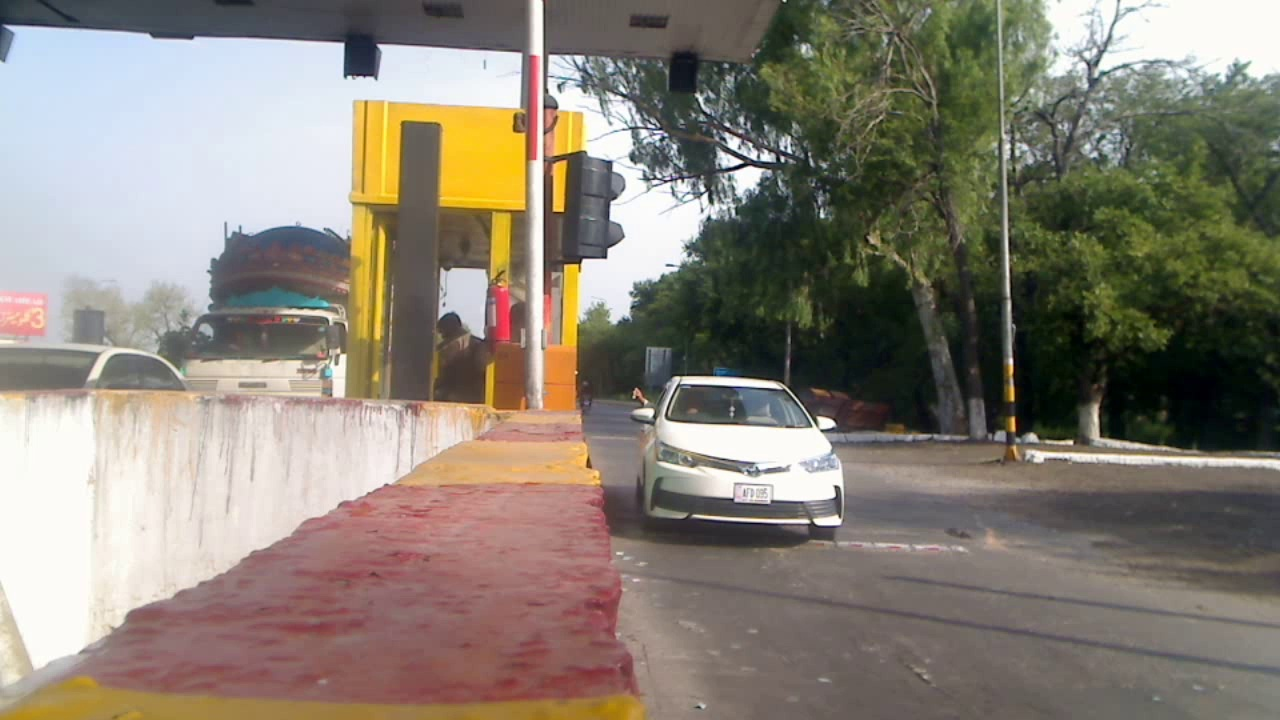Number Plate (Car): (736, 484, 773, 503)
